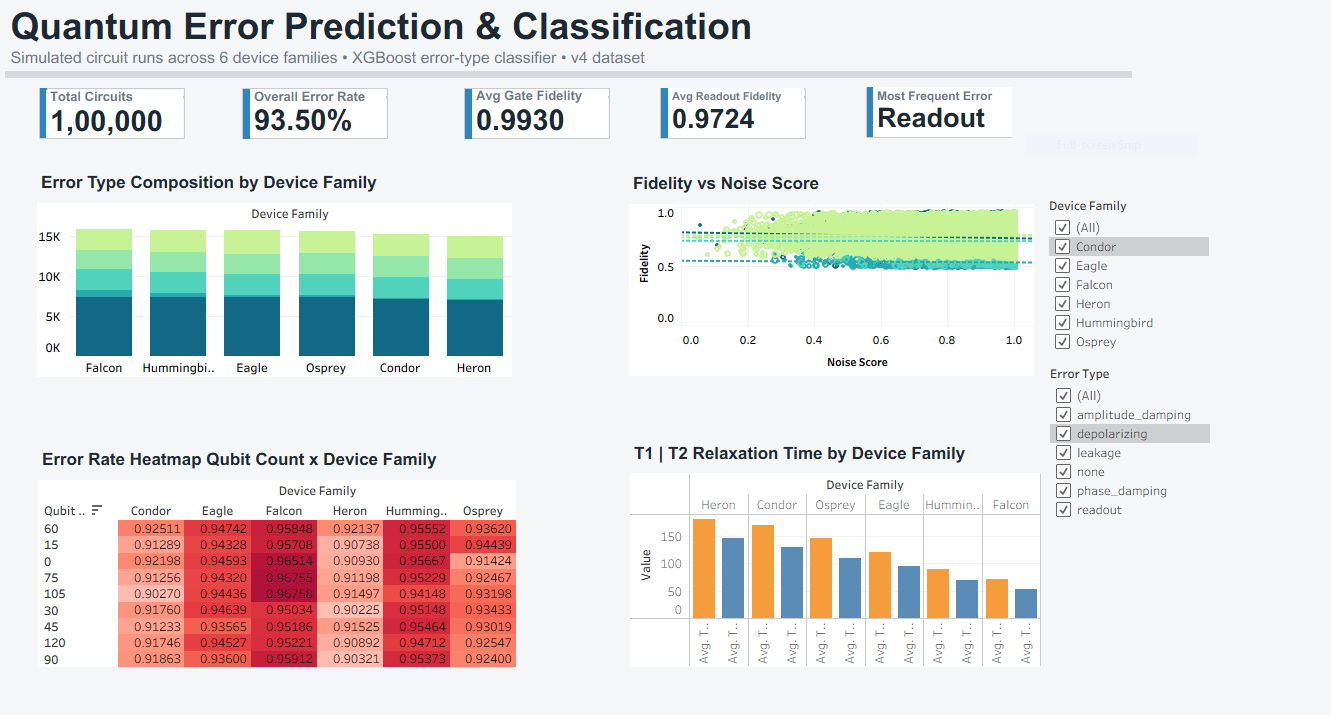

The dashboard page shown, as its layout file describes it:
{"tool":"tableau","page":{"name":"Dashboard 2","canvas":[1900,1150],"ordinal":1},"visuals":[{"type":"text","box":[8,4,1125,73]},{"type":"blank","box":[5,75,1127,7]},{"type":"blank","box":[867,91,7,50]},{"type":"worksheet","title":"most frequent error type kpi","mark":"Automatic","box":[873,91,139,50]},{"type":"blank","box":[40,92,7,50]},{"type":"blank","box":[661,92,7,50]},{"type":"worksheet","title":"average readout fidelity kpi","mark":"Automatic","box":[668,92,136,50]},{"type":"blank","box":[243,93,7,50]},{"type":"worksheet","title":"overall error rate kpi","mark":"Automatic","box":[250,93,136,49]},{"type":"blank","box":[465,93,7,50]},{"type":"worksheet","title":"average gate fidelity kpi","mark":"Automatic","box":[472,93,136,49]},{"type":"worksheet","title":"toal circuit kpi","mark":"Automatic","box":[46,94,140,48]},{"type":"worksheet","title":"Error Type by Device Family","mark":"Automatic","rows":["Calculation_0664146083287043"],"cols":["device_family"],"box":[37,173,475,208]},{"type":"worksheet","title":"Fidelity vs. Noise scatter","mark":"Automatic","rows":["fidelity"],"cols":["noise_score"],"box":[629,174,405,206]},{"type":"filter","title":"Error Type by Device Family","param":"[federated.0600k2o1mo02ch1ez1pyl0v79cpe].[none:device_family:nk]","box":[1049,201,160,157]},{"type":"filter","title":"Error Type by Device Family","param":"[federated.0600k2o1mo02ch1ez1pyl0v79cpe].[none:error_type:nk]","box":[1050,369,160,157]},{"type":"worksheet","title":"T1/T2 relaxation time comparison","mark":"Bar","cols":["device_family"],"box":[630,444,411,228]},{"type":"worksheet","title":"Error Rate Heatmap by Qubit Count & Device'.","mark":"Square","rows":["Qubit Count (bin)"],"cols":["device_family"],"box":[38,450,478,221]}]}

Visuals, with their boxes on the page's 1900x1150 design canvas (x1, y1, x2, y2). These are canvas units, not pixel positions in the 1331x715 screenshot, which may show the page scaled, cropped or inside an application window:
text: locate(8, 4, 1133, 77)
blank: locate(5, 75, 1132, 82)
blank: locate(867, 91, 874, 141)
"most frequent error type kpi" worksheet: locate(873, 91, 1012, 141)
blank: locate(40, 92, 47, 142)
blank: locate(661, 92, 668, 142)
"average readout fidelity kpi" worksheet: locate(668, 92, 804, 142)
blank: locate(243, 93, 250, 143)
"overall error rate kpi" worksheet: locate(250, 93, 386, 142)
blank: locate(465, 93, 472, 143)
"average gate fidelity kpi" worksheet: locate(472, 93, 608, 142)
"toal circuit kpi" worksheet: locate(46, 94, 186, 142)
"Error Type by Device Family" worksheet: locate(37, 173, 512, 381)
"Fidelity vs. Noise scatter" worksheet: locate(629, 174, 1034, 380)
"Error Type by Device Family" filter: locate(1049, 201, 1209, 358)
"Error Type by Device Family" filter: locate(1050, 369, 1210, 526)
"T1/T2 relaxation time comparison" worksheet (Bar marks): locate(630, 444, 1041, 672)
"Error Rate Heatmap by Qubit Count & Device'." worksheet (Square marks): locate(38, 450, 516, 671)
